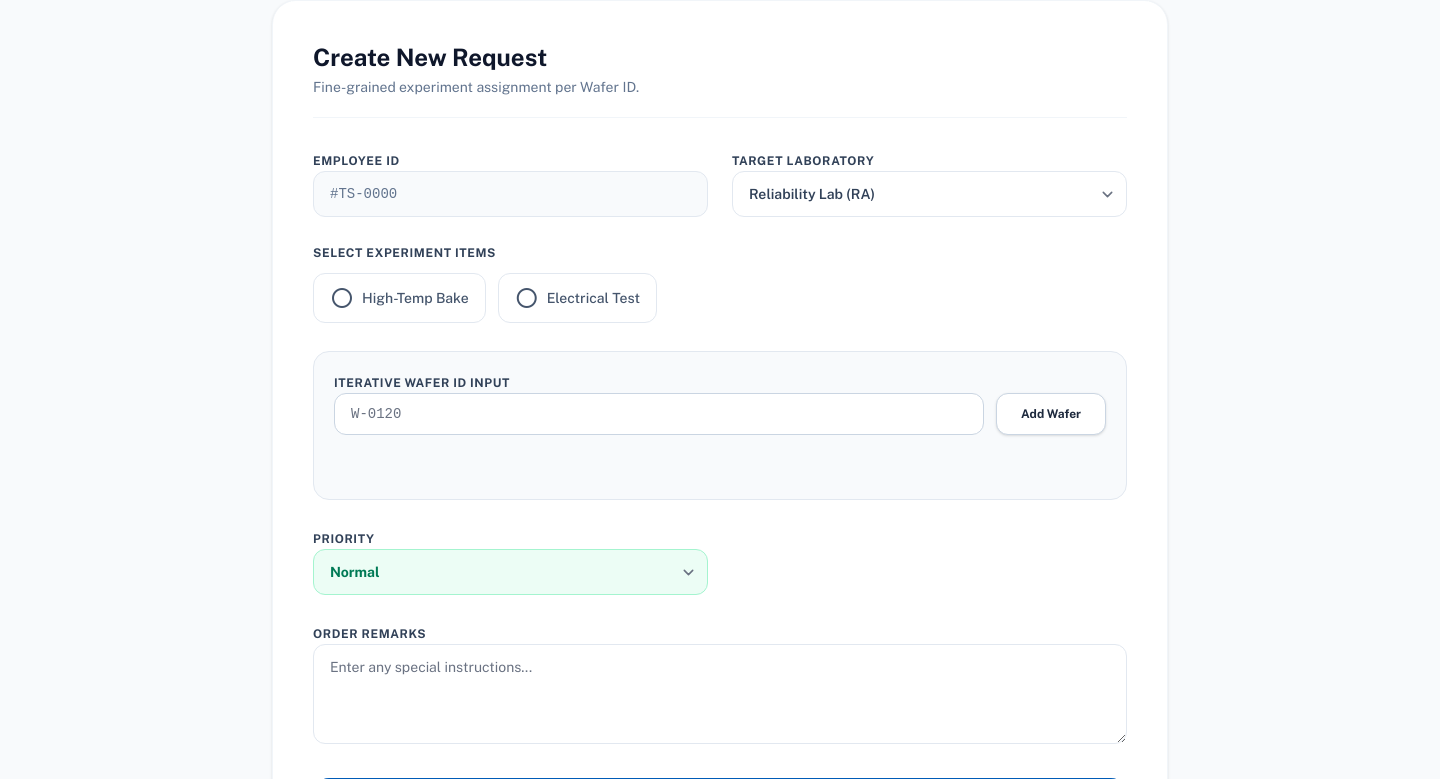
Scenario: FabRequestView - Enterprise Order Provisioning Testing Suite › should prevent adding duplicate Wafer IDs
The image size is (1440, 779).
Step 1. Type "W-9999" into the field with placeholder "W-0120" → (659, 414), box [334,393,984,435]
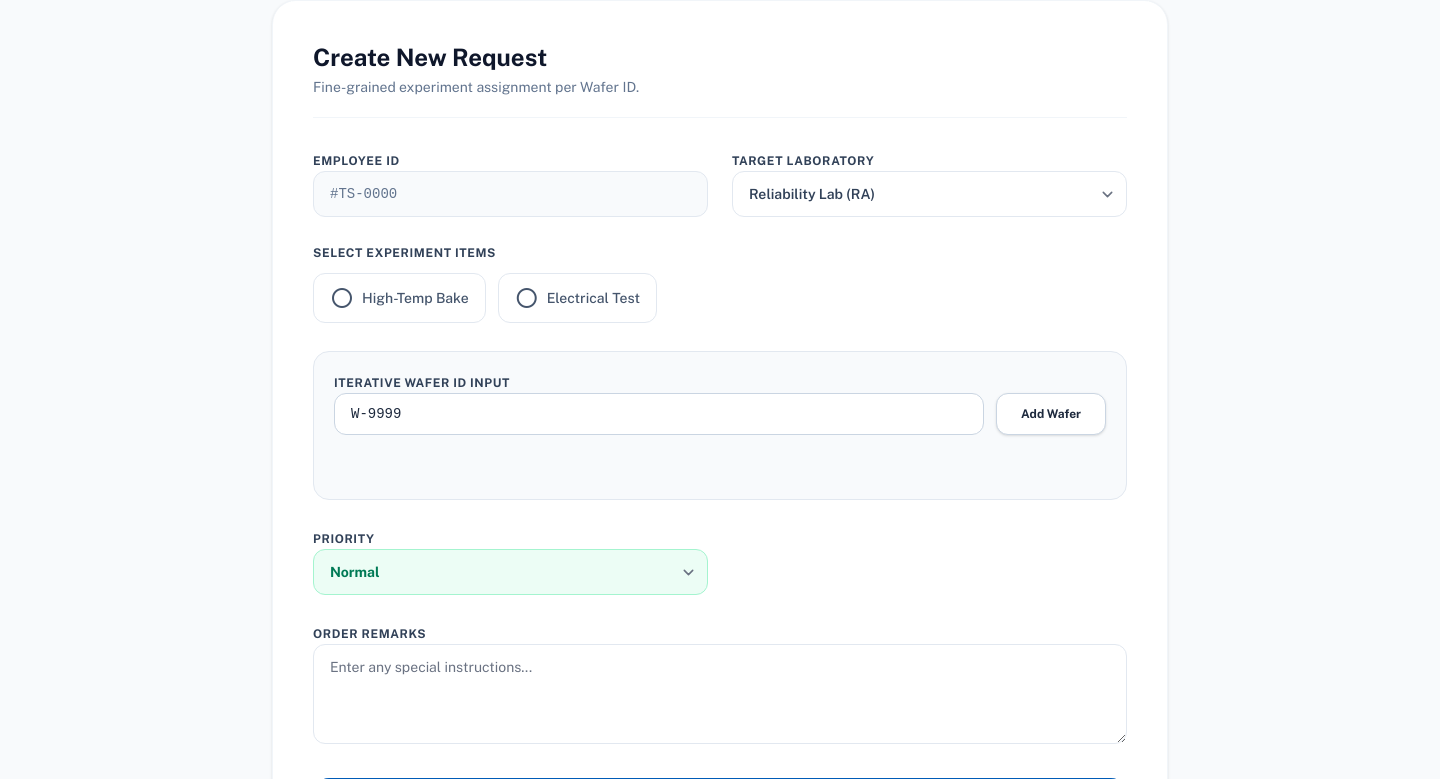
Step 2. Click the button "Add Wafer" → (1051, 414), box [996,393,1106,435]
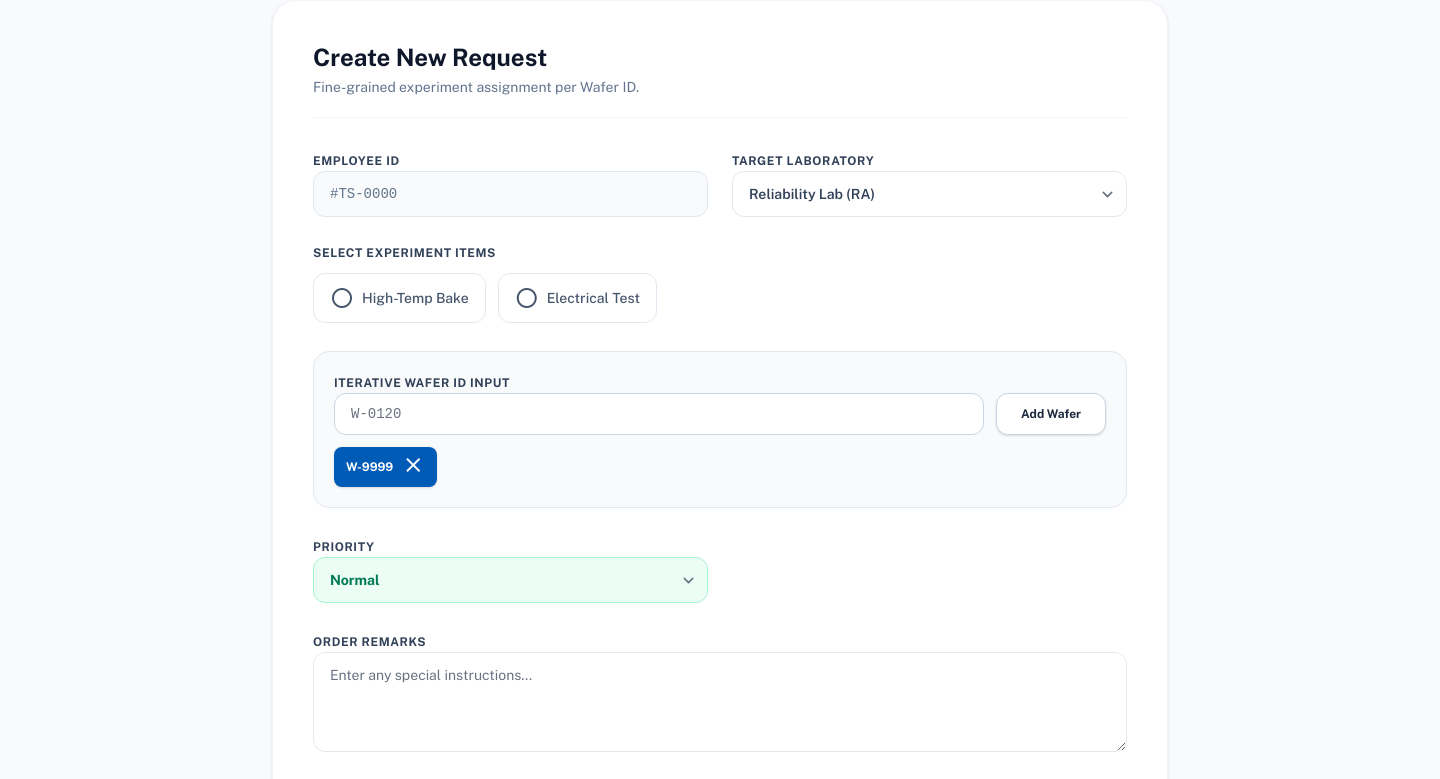
Step 3. Type "W-9999" into the field with placeholder "W-0120" → (659, 414), box [334,393,984,435]
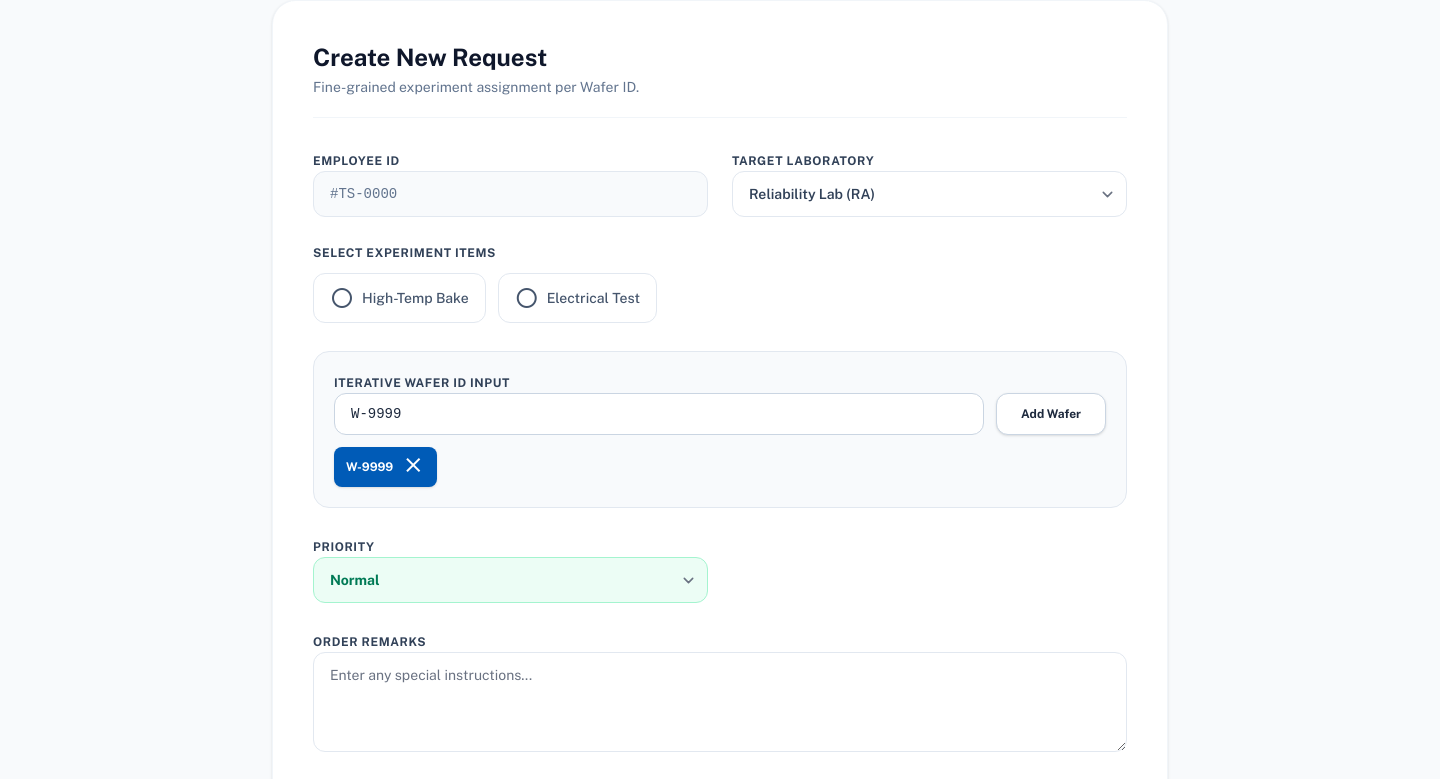
Step 4. Click the button "Add Wafer" → (1051, 414), box [996,393,1106,435]
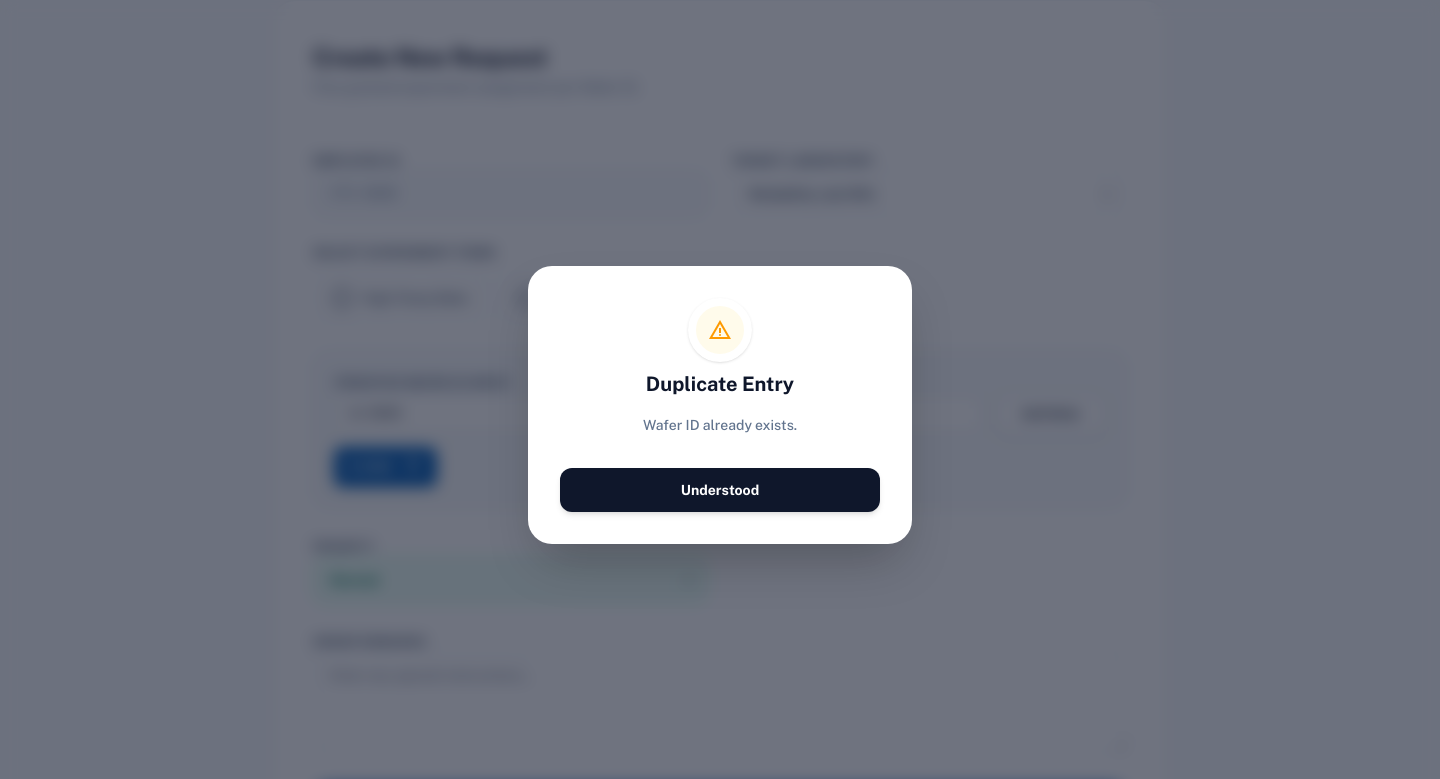
expect the heading "Duplicate Entry" is shown: met, box [646,372,794,396]
